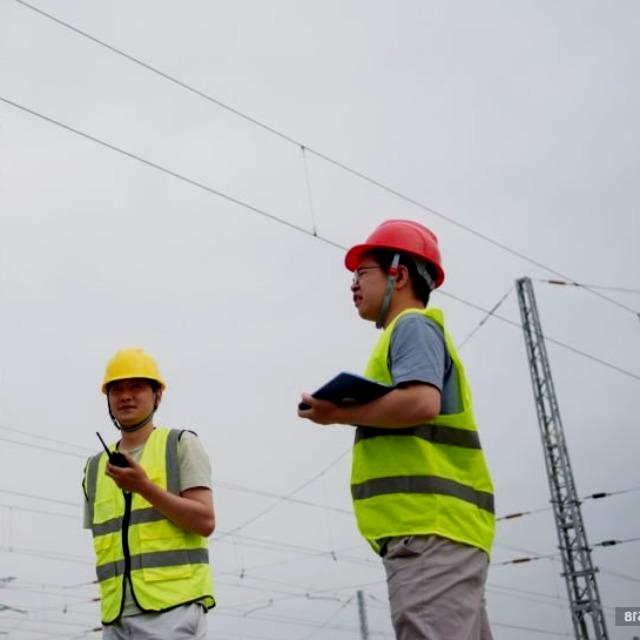Con_Casco: (346, 218, 445, 316), (102, 346, 166, 429)
Con_Chaleco: (346, 314, 492, 550), (81, 427, 211, 611)
